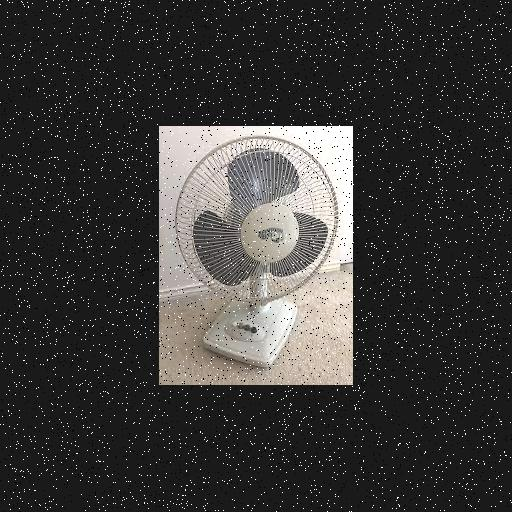Fan: (175, 135, 338, 303)
